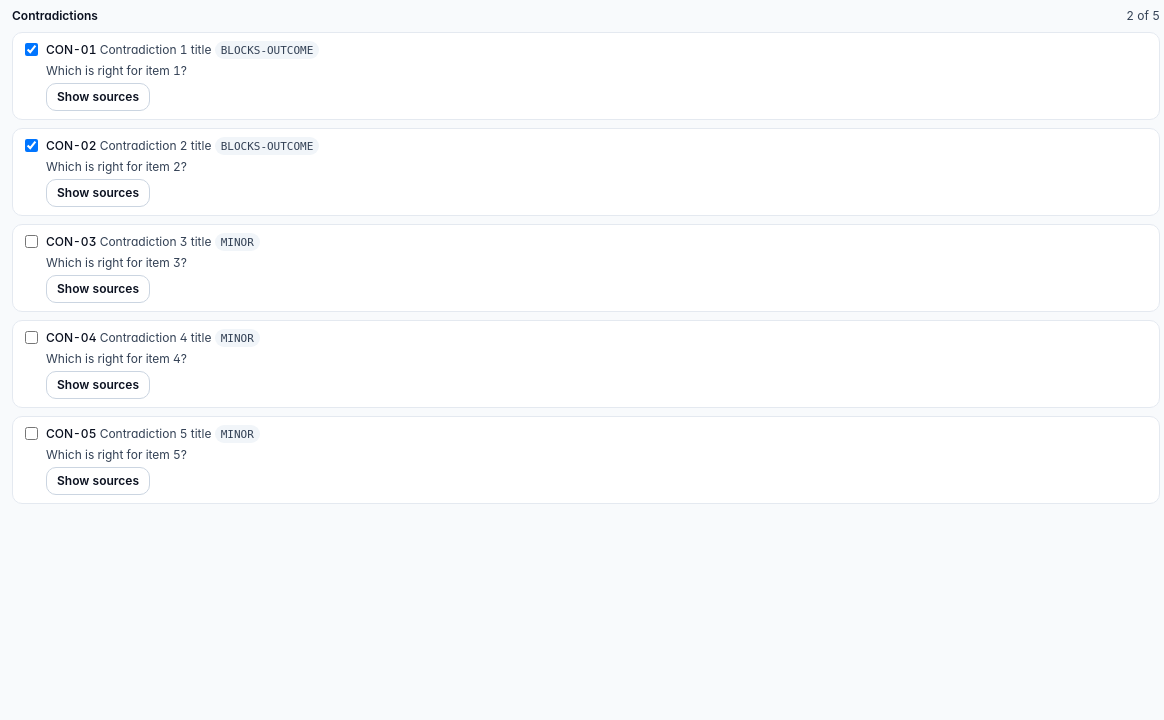
Scenario: BriefForm: contradictions › shows both quoted sources only after the row is expanded
The image size is (1164, 720).
Expected: the text "Quoted passage A1" is not shown
Step 1. Click the button with aria-label "Show sources for CON-01" → (98, 97), box [46,83,150,111]
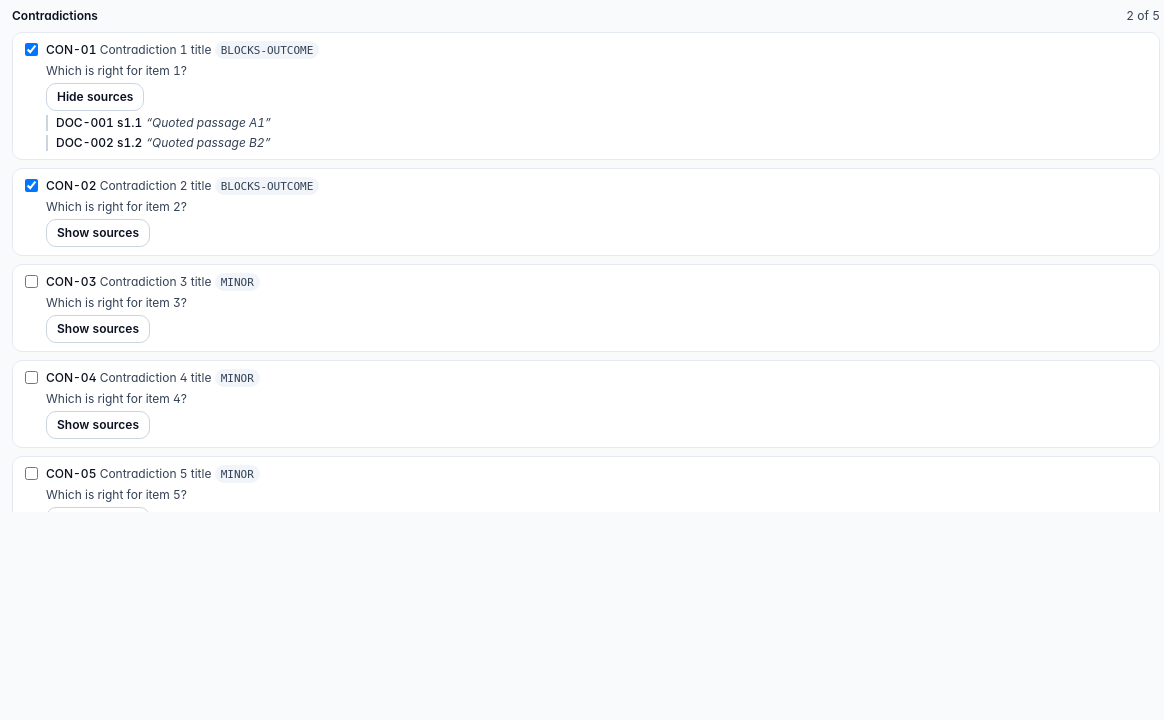
Expected: the text "DOC-001 s1.1" is shown, [56,115,142,130]
Expected: the text "Quoted passage A1" is shown, [146,115,271,130]
Expected: the text "DOC-002 s1.2" is shown, [56,135,142,150]
Step 2. Click the button with aria-label "Hide sources for CON-01" → (95, 97), box [46,83,144,111]
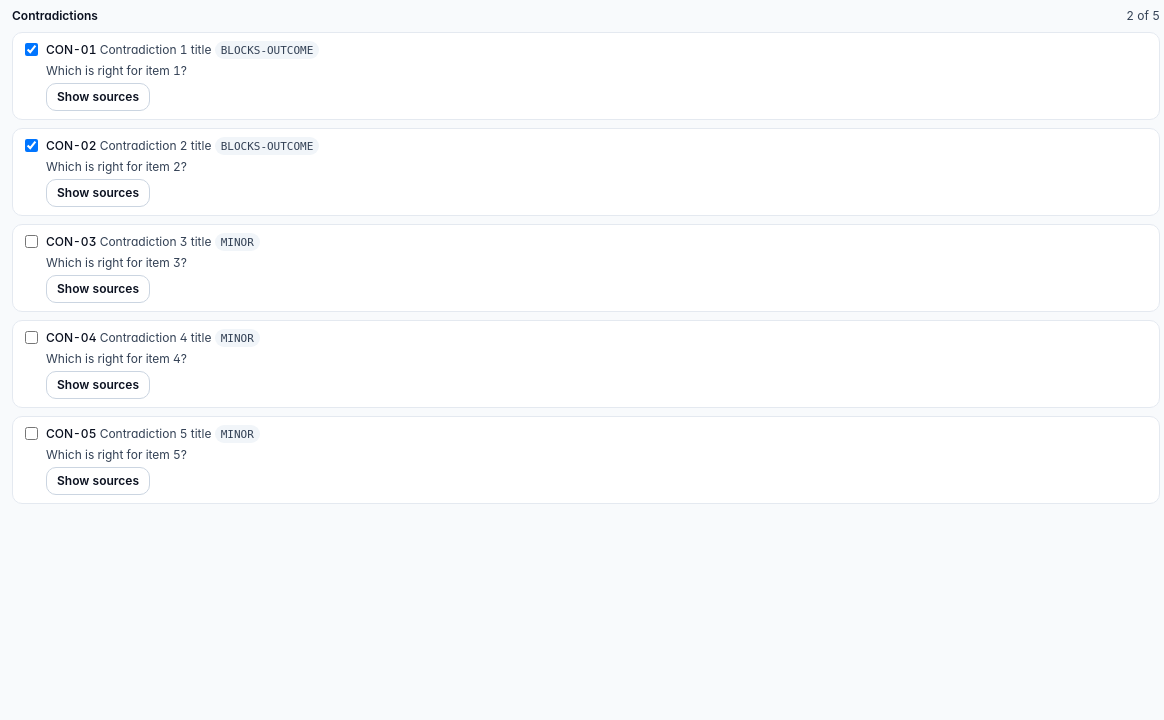
Expected: the text "Quoted passage A1" is gone
